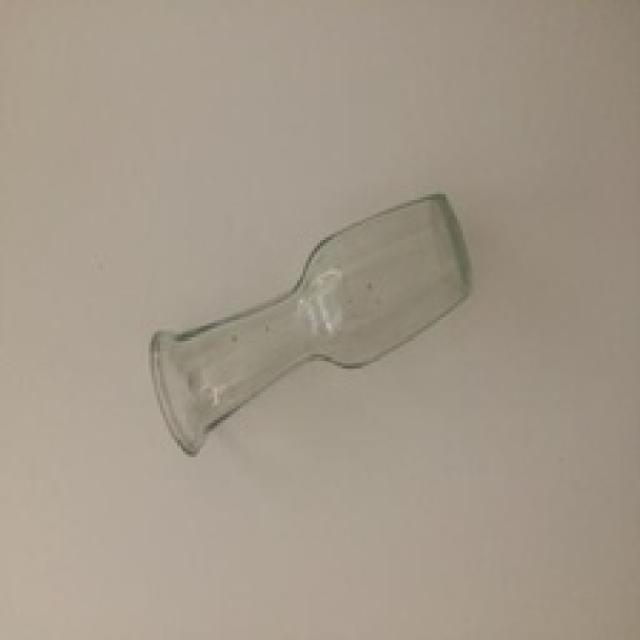Glass: (148, 192, 474, 460)
